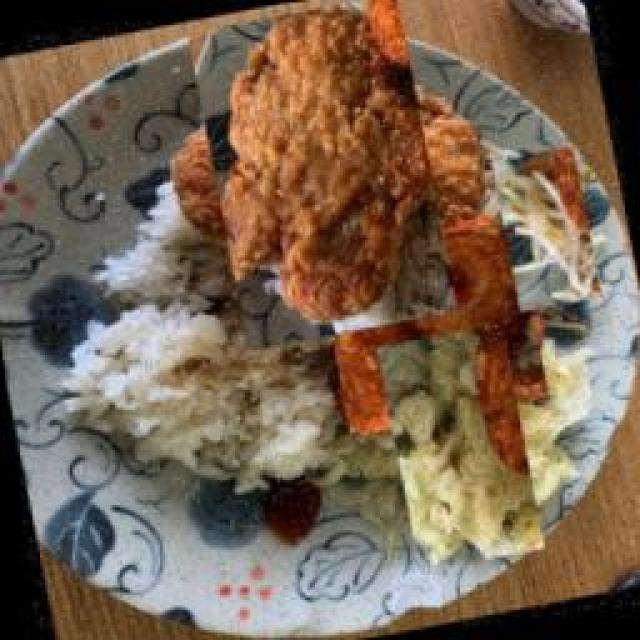Wet Waste: (162, 10, 482, 330), (75, 215, 333, 500), (312, 218, 550, 438), (355, 340, 567, 552), (488, 142, 602, 312)
